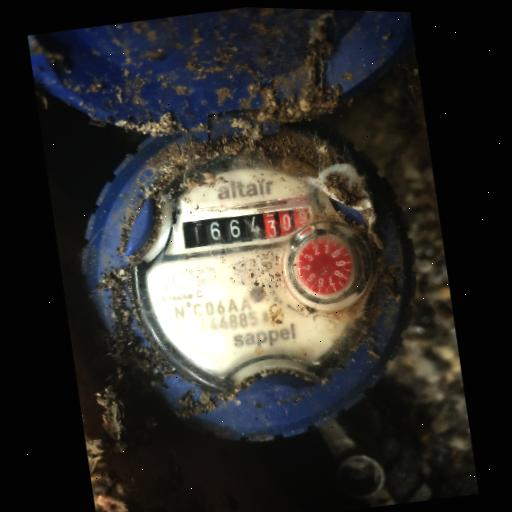0: (275, 208, 294, 236)
1: (184, 218, 204, 248)
3: (262, 209, 280, 240)
4: (242, 211, 264, 241)
6: (202, 217, 224, 246), (223, 214, 243, 243)
9: (289, 206, 312, 232)
border_water_meter_number: (174, 188, 321, 258)
